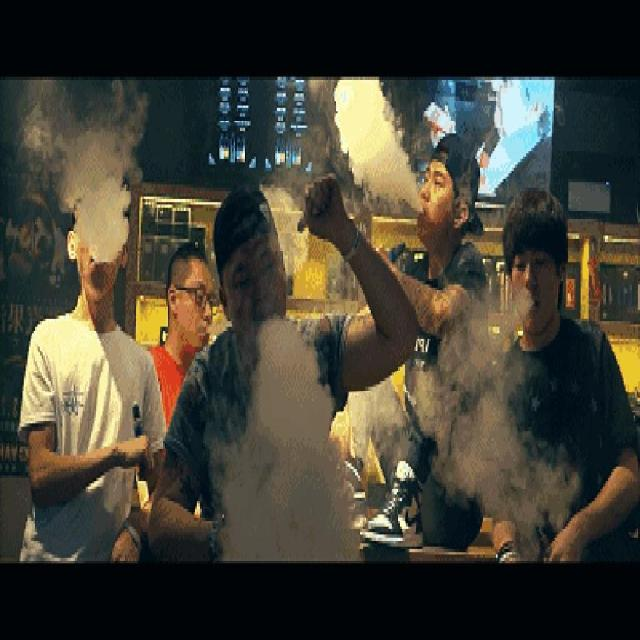smoking: (213, 157, 345, 378), (497, 192, 577, 350), (370, 132, 482, 240), (59, 163, 140, 311)
